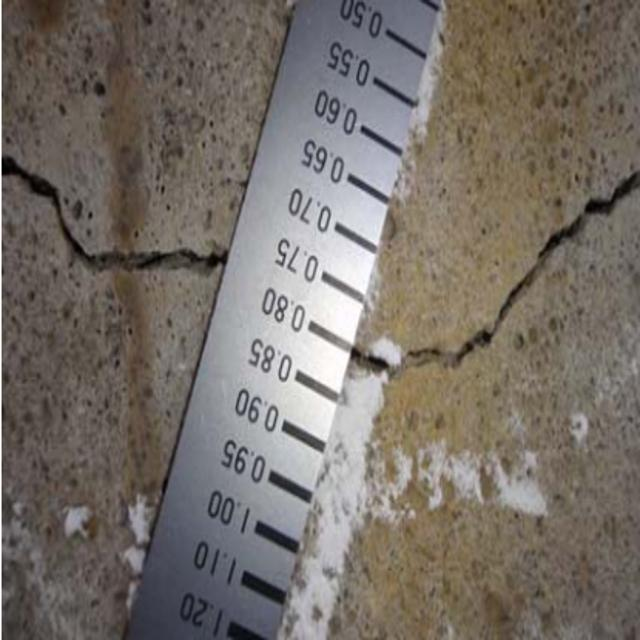crack: (354, 170, 640, 400), (2, 128, 228, 306)
